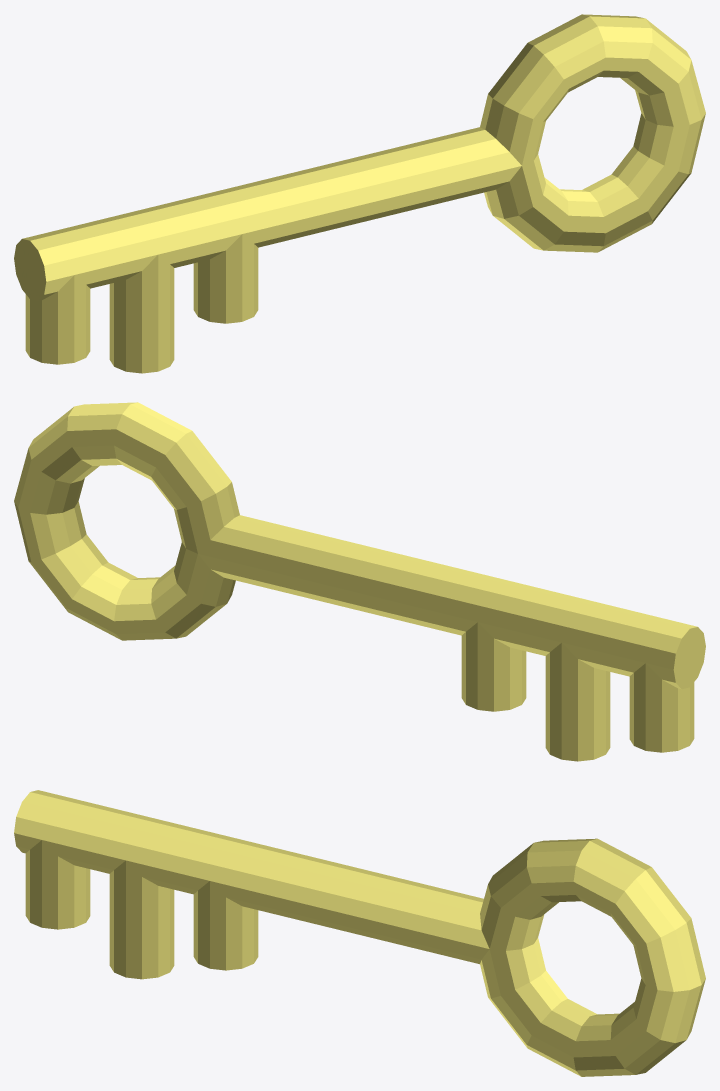
The model's file is key.glb.
3 views of the same model, one above another, from view 1: azimuth 30°, elevation 25°; view 2: azimuth 150°, elevation 25°; view 3: azimuth 330°, elevation 25° (orthographic).
Visible parts, largest first — view 1: group76944799; view 2: group76944799; view 3: group76944799.
Part boxes in pixels (bbox=[...]): group76944799: bbox=[14, 14, 705, 373]; group76944799: bbox=[14, 402, 705, 761]; group76944799: bbox=[14, 790, 705, 1076].
Size of the model in its own units: 0.24 by 0.08 by 0.02.
